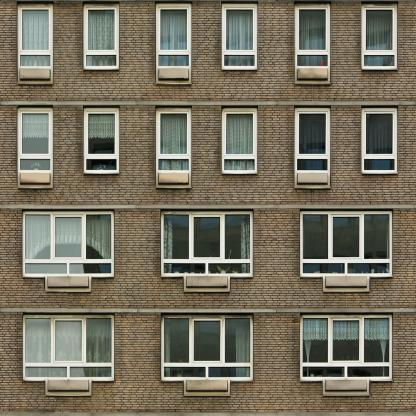Building Outline: (0, 0, 416, 415)
Facade: (0, 1, 416, 416)
Floor: (0, 308, 416, 407), (0, 0, 416, 95), (0, 103, 416, 198), (0, 206, 416, 300)
Floor Slab: (0, 95, 416, 103), (0, 408, 416, 416), (0, 301, 416, 309), (0, 199, 416, 207)
Sill: (323, 380, 370, 395), (46, 380, 93, 395), (184, 380, 231, 395), (323, 277, 370, 292), (45, 277, 92, 292), (184, 277, 231, 292), (17, 67, 53, 84), (17, 171, 53, 188), (295, 68, 330, 85), (156, 68, 191, 85), (295, 171, 330, 188), (156, 171, 191, 188)
Window: (300, 209, 392, 277), (22, 209, 114, 277), (161, 209, 253, 277), (301, 312, 392, 380), (23, 312, 114, 380), (162, 312, 253, 380), (361, 4, 397, 69), (83, 4, 119, 69), (222, 4, 258, 69), (17, 2, 53, 67), (361, 107, 397, 172), (83, 107, 119, 172), (222, 107, 258, 172), (17, 106, 53, 171), (156, 3, 191, 68), (295, 3, 330, 68), (156, 106, 191, 171), (295, 106, 330, 171)
